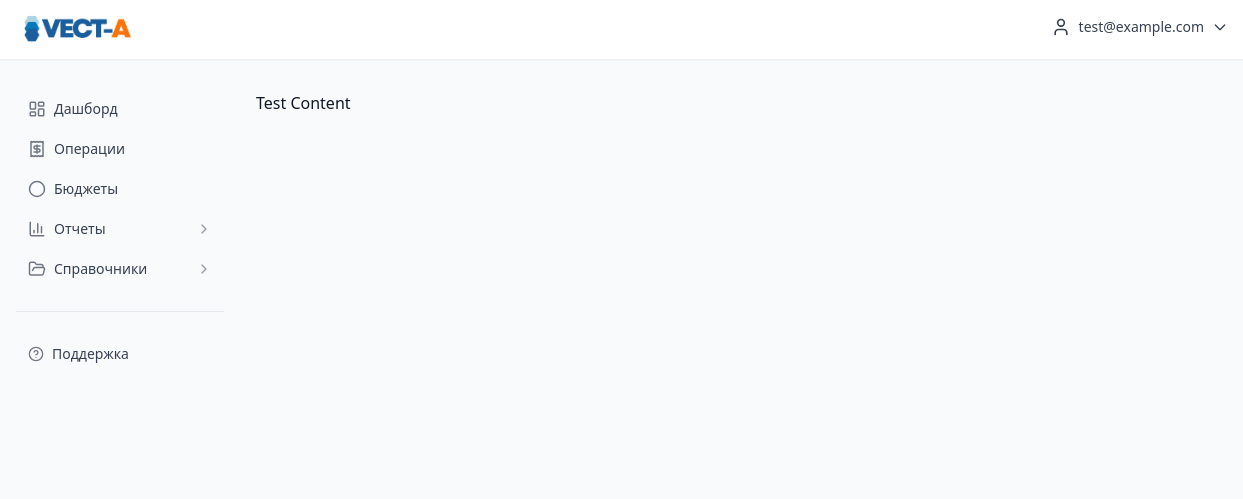
Test case: Layout - MenuPopover Integration › should close MenuPopover when a menu item is clicked
Click the button "Справочники" at (120, 268), box [28, 259, 212, 278]
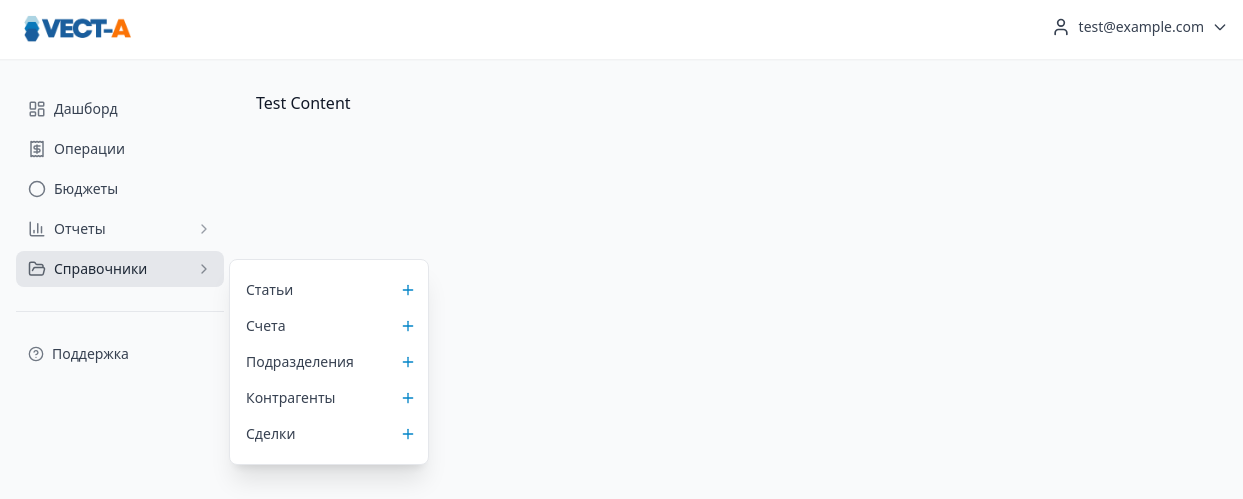
Result: the text "Статьи" is shown
Click the menu item "Статьи" at (270, 290), box [246, 280, 293, 299]
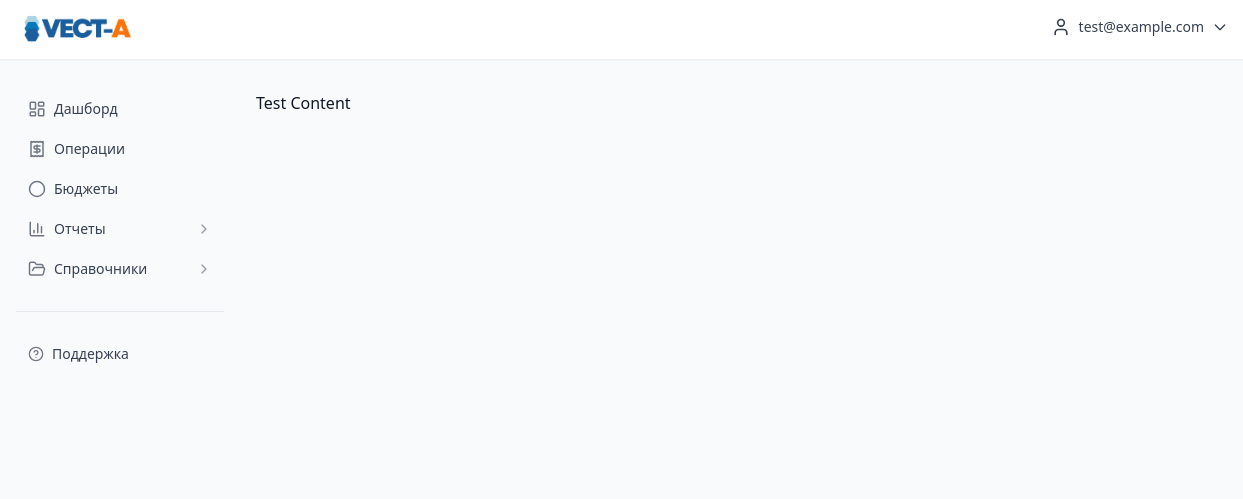
Result: the menu item "Статьи" is gone
